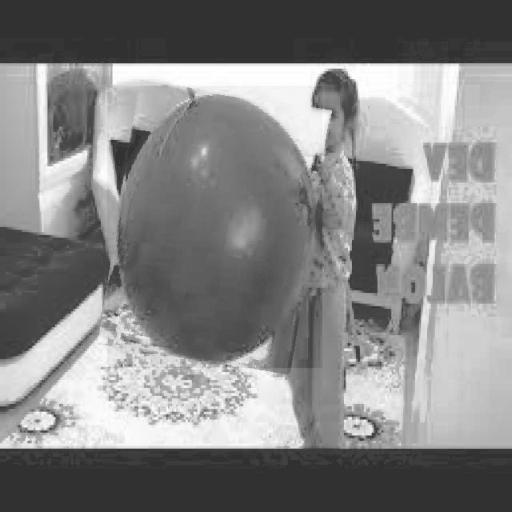balloon: (122, 92, 315, 360)
